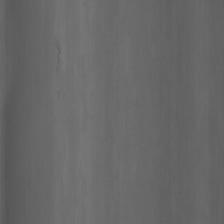water_spot: (51, 31, 69, 92)
